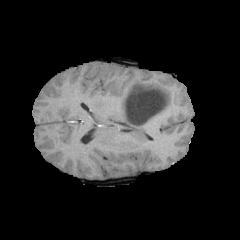glioma: (117, 76, 172, 136)
